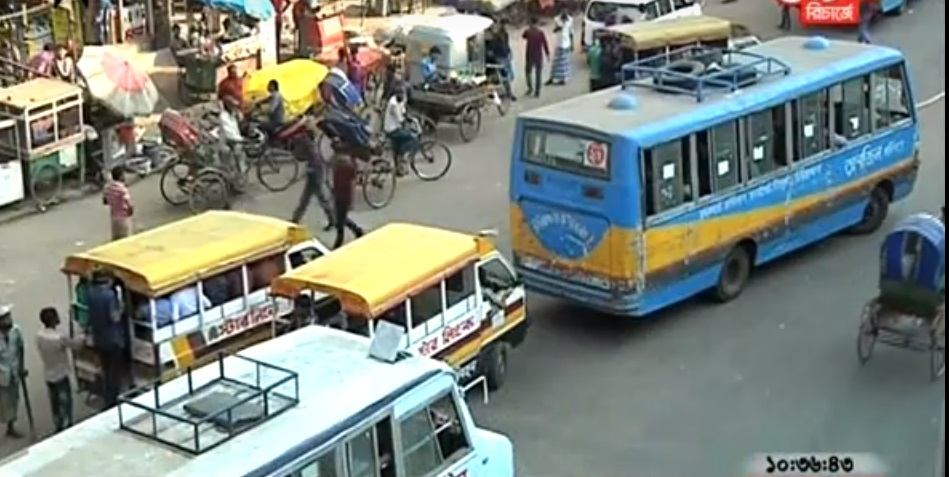bike: (238, 102, 314, 158)
bus: (507, 37, 922, 318), (1, 323, 514, 476)
car: (579, 1, 702, 42)
cng: (408, 15, 509, 81)
leguna: (66, 210, 336, 406), (266, 220, 532, 386), (593, 16, 764, 78)
rickshaw: (158, 110, 302, 213), (858, 213, 944, 381), (316, 112, 453, 209), (1, 76, 91, 204), (318, 67, 436, 162)
van: (411, 66, 511, 141)
